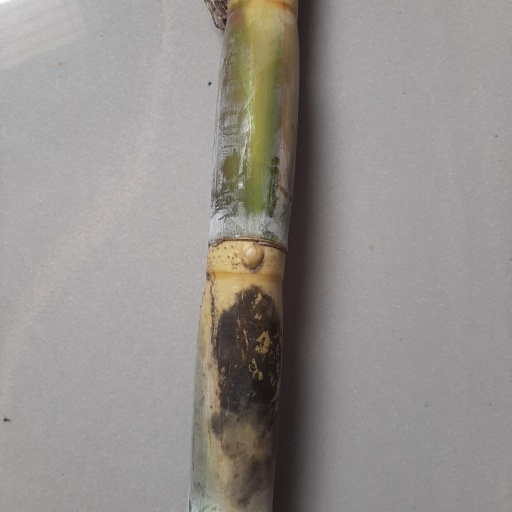Bud: (239, 242, 266, 271)
